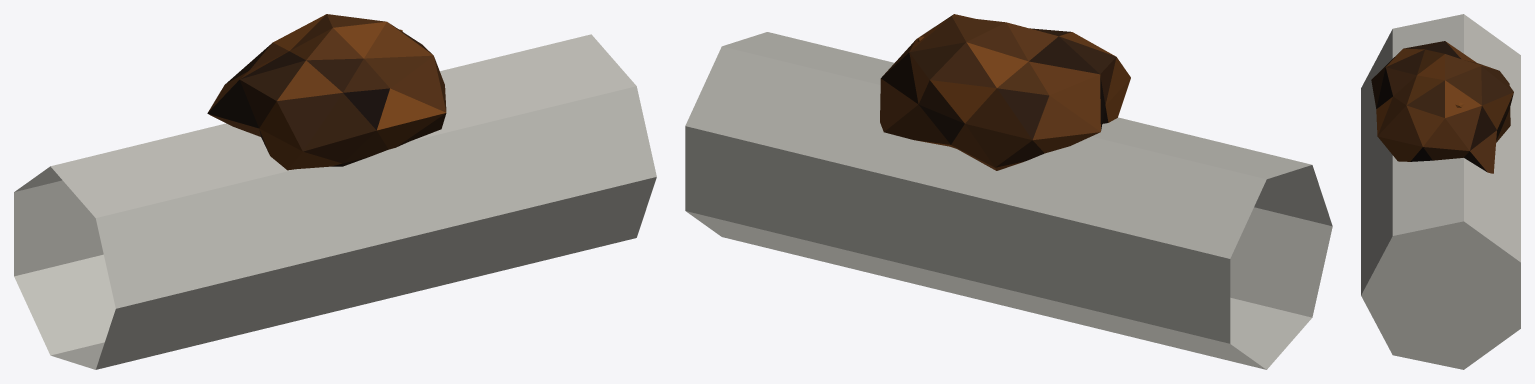
The model's file is chaga_growth.glb.
3 views of the same model, side by side, from view 1: azimuth 30°, elevation 25°; view 2: azimuth 150°, elevation 25°; view 3: azimuth 270°, elevation 25° (orthographic). The views are drawn at different scales.
Visible parts, largest first — view 1: chaga_growth; view 2: chaga_growth; view 3: chaga_growth.
Part boxes in pixels (x1=…): chaga_growth: x1=14, y1=14, x2=656, y2=369; chaga_growth: x1=685, y1=14, x2=1332, y2=369; chaga_growth: x1=1361, y1=14, x2=1520, y2=369.
Bounding box in the file's own units: 0.7 × 0.3344 × 0.2281.
